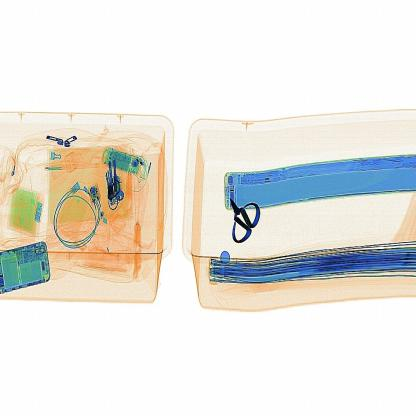gun: (221, 185, 272, 250)
